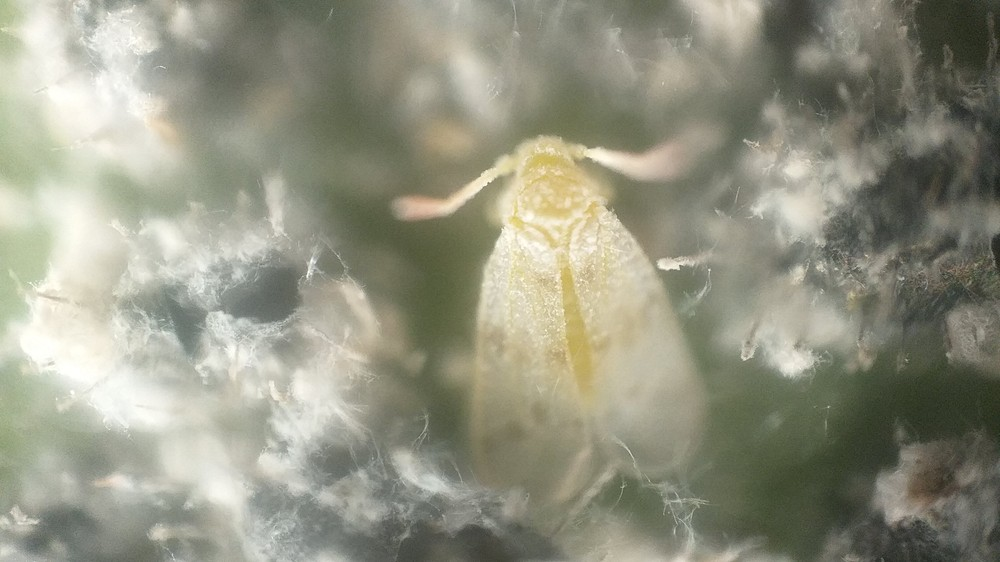Mosca Blanca: (371, 111, 789, 505)
